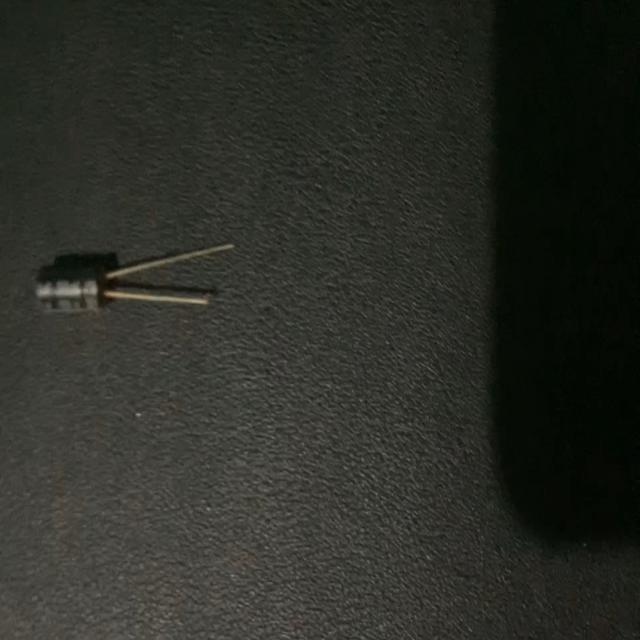capacitor: (32, 236, 240, 313)
